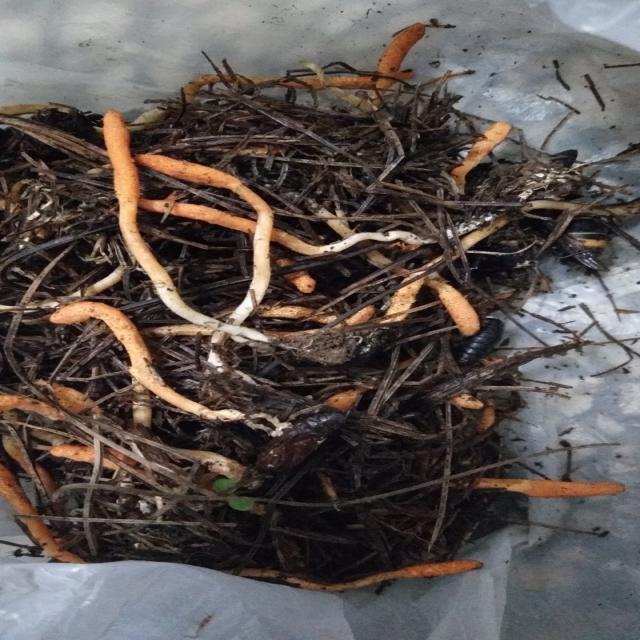Cordyceps militaris: (87, 111, 276, 344), (44, 296, 256, 429), (147, 198, 438, 253), (240, 552, 497, 587), (0, 475, 92, 560), (463, 469, 631, 504), (454, 122, 516, 192), (384, 20, 431, 110)
